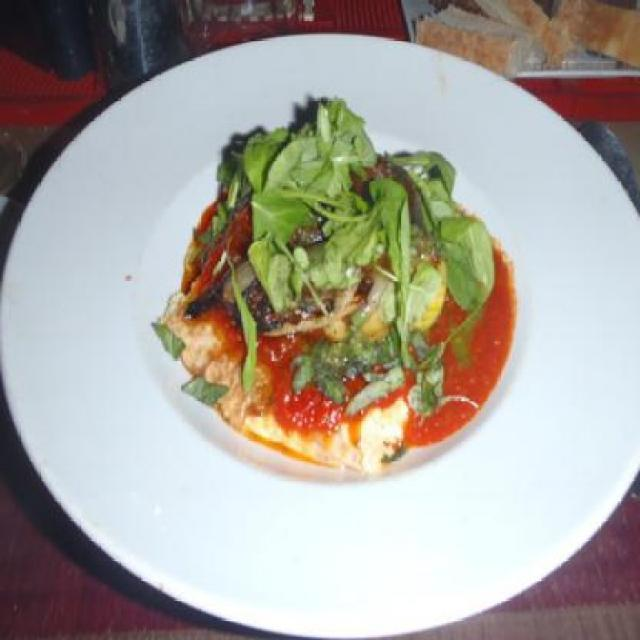Lasagna: (192, 248, 478, 470)
